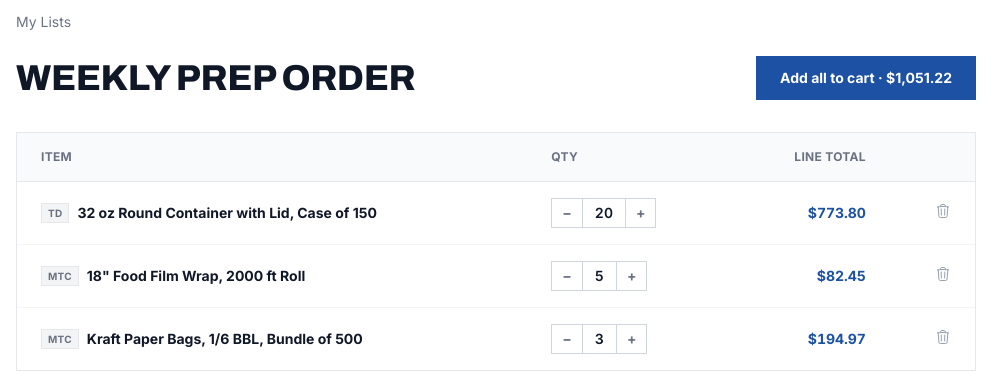
Test: ListDetailPage — known list › shows a confirmation state briefly after adding to cart
The image size is (993, 388).
Click the button "Add all to cart · $1,051.22". click: (866, 78)
box: [756,56,976,100]
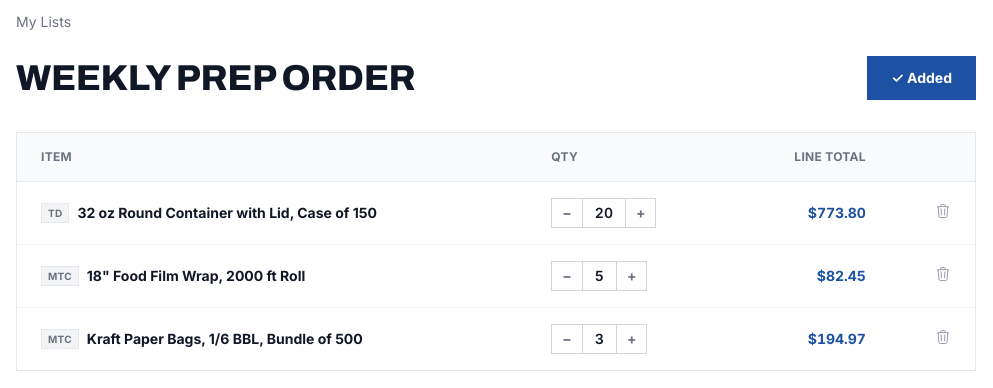
Now the button "✓ Added" is shown, box [867,56,976,100]
